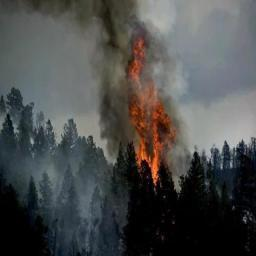Low smoke: (1, 0, 191, 194)
Medium fire: (126, 35, 178, 188)
